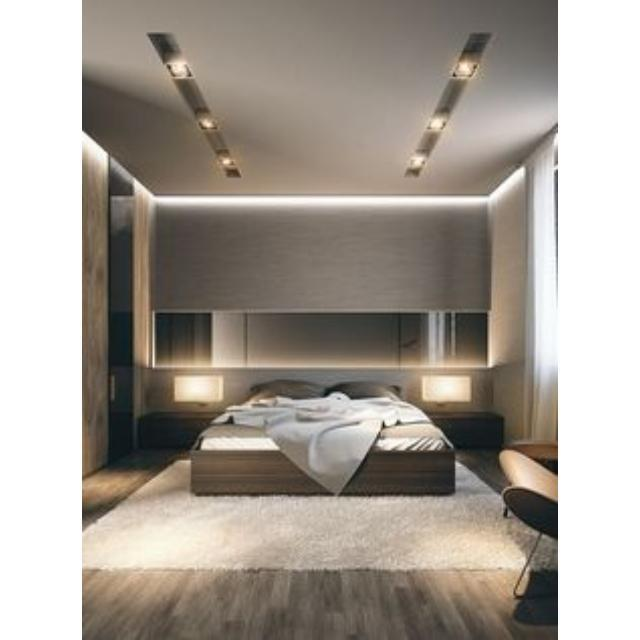bed: (191, 380, 454, 495)
lamp: (422, 375, 471, 402), (174, 375, 221, 402)
light: (149, 32, 241, 177), (406, 34, 491, 177)
rug: (83, 460, 532, 571)
table: (140, 412, 216, 448), (433, 415, 501, 448)
